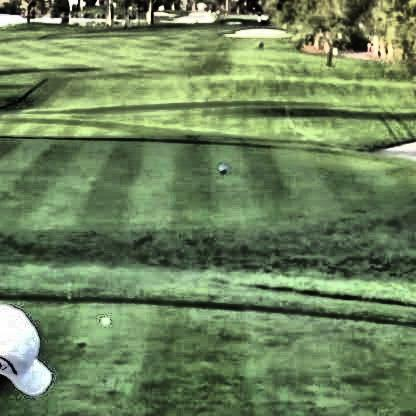golfball: (98, 314, 108, 323)
